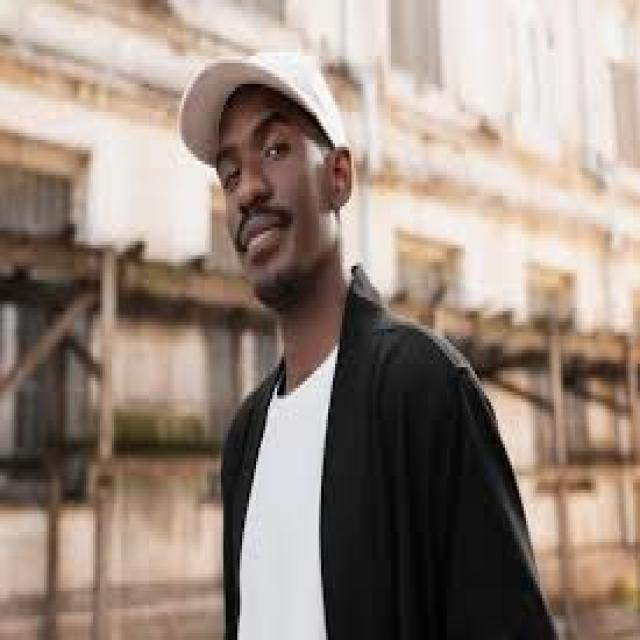3_gorra: (178, 49, 349, 168)
